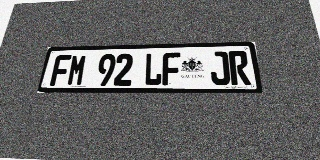2: (113, 53, 133, 86)
9: (96, 54, 116, 86)
F: (50, 55, 72, 86), (162, 52, 180, 85)
J: (209, 51, 231, 85)
L: (144, 53, 162, 85)
M: (66, 54, 88, 86)
R: (228, 51, 251, 85)
